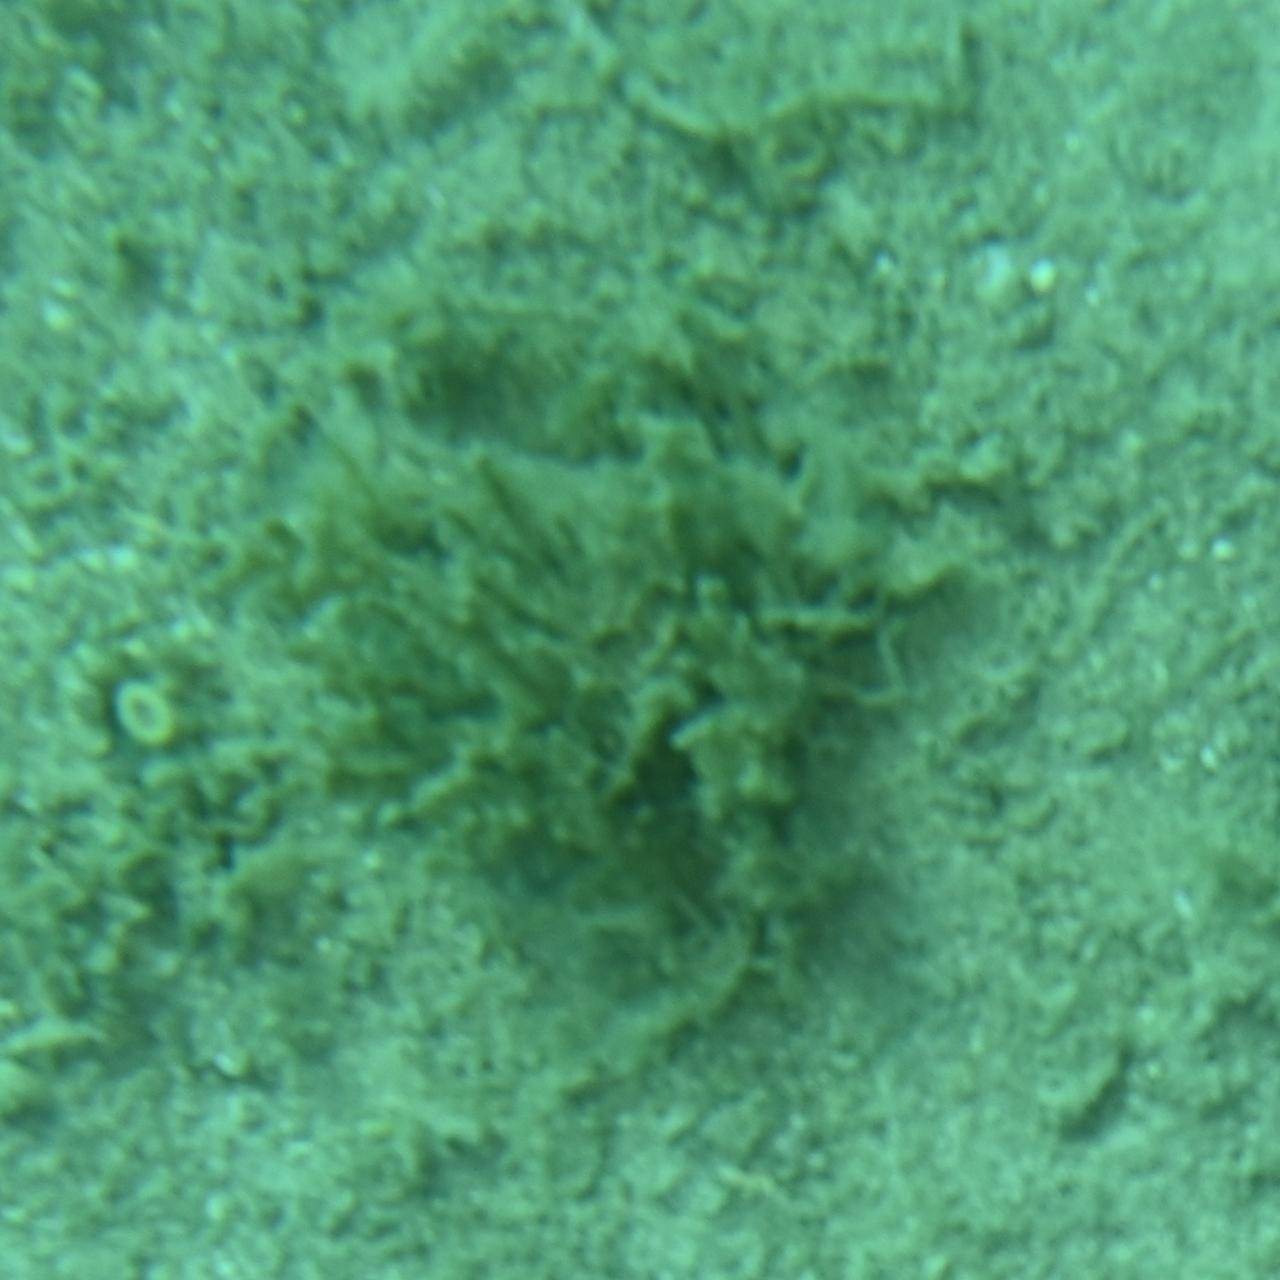Phaeophyceae -cfr Cystoseira-: (293, 230, 987, 1050)
